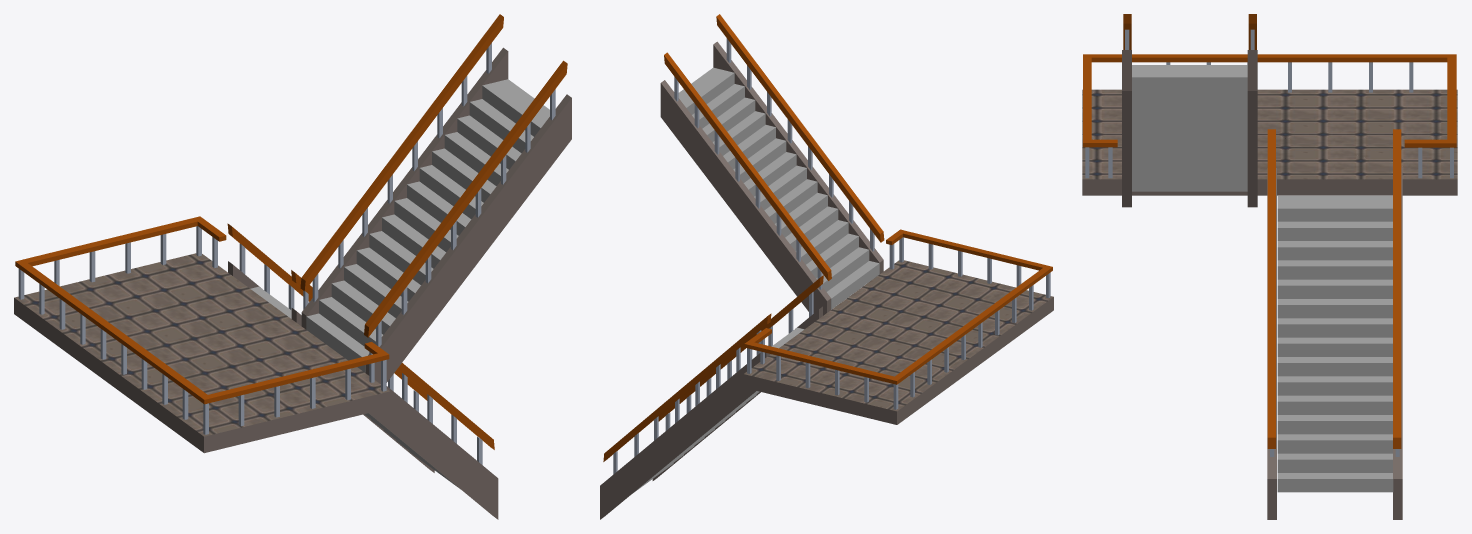
The model's file is Ladder invert.fbx.
3 renders of one model, left to right at view 1: azimuth 30°, elevation 25°; view 2: azimuth 150°, elevation 25°; view 3: azimuth 270°, elevation 25°, orthographic. The views are drawn at different scales.
Parts seen in each view (by area): view 1: Plane.002, Steps 2.007, Railings 1.001, Railings 3.001, Railings 4.001, Railings 2.001, Steps 2.006; view 2: Plane.002, Steps 2.007, Railings 1.001, Railings 3.001, Railings 2.001, Railings 4.001, Steps 2.006; view 3: Steps 2.006, Plane.002, Steps 2.007, Railings 2.001, Railings 3.001, Railings 4.001, Railings 1.001.
Boxes of the visible parts, <box> form: Plane.002: <box>14,47,571,519</box>; Steps 2.007: <box>306,79,549,372</box>; Railings 1.001: <box>300,14,567,346</box>; Railings 3.001: <box>15,216,389,404</box>; Railings 4.001: <box>18,226,386,434</box>; Railings 2.001: <box>227,223,494,464</box>; Steps 2.006: <box>250,286,460,489</box>; Plane.002: <box>600,41,1053,519</box>; Steps 2.007: <box>678,67,879,309</box>; Railings 1.001: <box>664,14,884,289</box>; Railings 3.001: <box>744,229,1052,384</box>; Railings 2.001: <box>603,275,823,474</box>; Railings 4.001: <box>747,237,1050,409</box>; Steps 2.006: <box>631,327,804,494</box>; Steps 2.006: <box>1277,196,1393,492</box>; Plane.002: <box>1082,50,1457,519</box>; Steps 2.007: <box>1132,65,1247,191</box>; Railings 2.001: <box>1267,129,1401,456</box>; Railings 3.001: <box>1083,54,1456,147</box>; Railings 4.001: <box>1085,62,1453,178</box>; Railings 1.001: <box>1123,14,1256,49</box>.
Bounding box in the file's own units: 921 × 1159 × 781.
